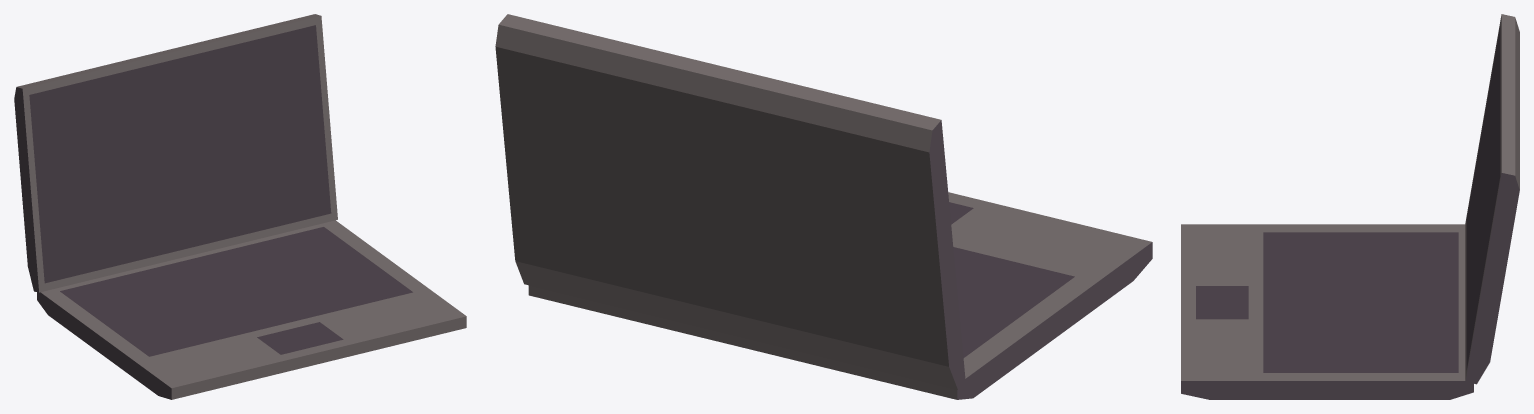
Rendered from Laptop.fbx.
The picture shows the model from 3 angles, left to right: view 1: azimuth 30°, elevation 25°; view 2: azimuth 150°, elevation 25°; view 3: azimuth 270°, elevation 25°; orthographic projection. The views are drawn at different scales.
Visible parts, largest first — view 1: Laptop; view 2: Laptop; view 3: Laptop.
Part boxes in pixels (x1,y1,x2,y2): Laptop: [14, 14, 466, 399]; Laptop: [495, 14, 1152, 399]; Laptop: [1181, 14, 1519, 399].
Size of the model in its own units: 79.55 by 53.32 by 71.72.
